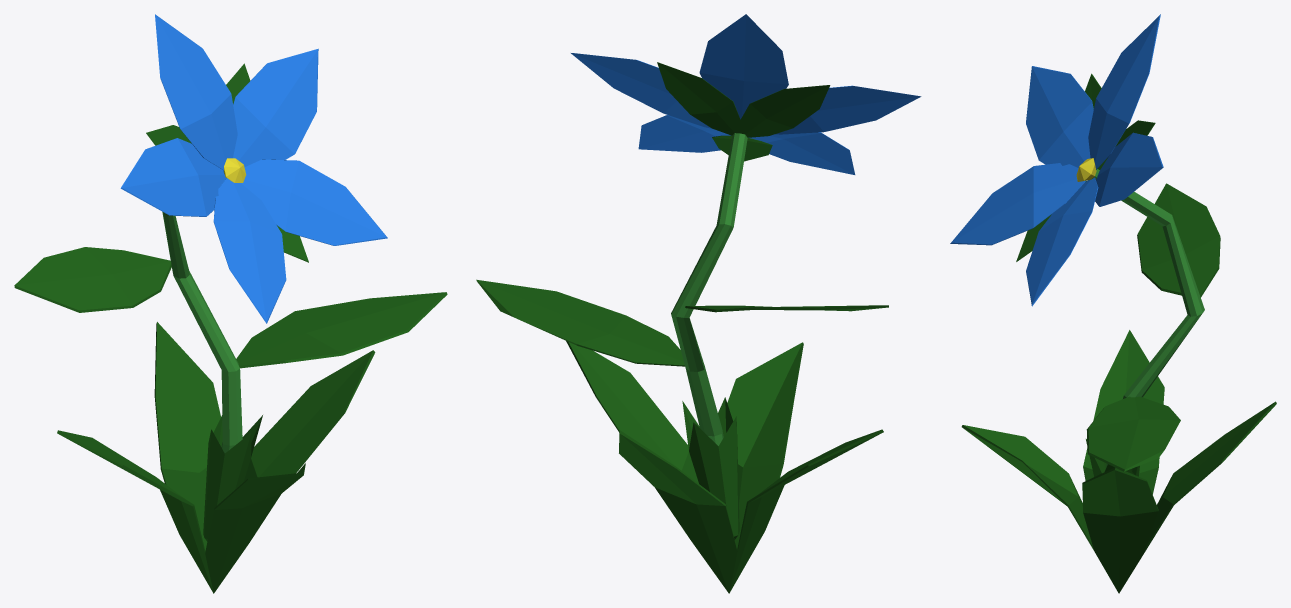
The model's file is Flower 1.2.fbx.
3 views of the same model, side by side, from view 1: azimuth 30°, elevation 25°; view 2: azimuth 150°, elevation 25°; view 3: azimuth 270°, elevation 25° (orthographic). The views are drawn at different scales.
Parts seen in each view (by area): view 1: Flower 1.2; view 2: Flower 1.2; view 3: Flower 1.2.
Part boxes in pixels (<box>): Flower 1.2: <box>14,14,447,593</box>; Flower 1.2: <box>476,14,921,593</box>; Flower 1.2: <box>950,14,1276,593</box>.
Size of the model in its own units: 59.44 by 79.16 by 41.73.
